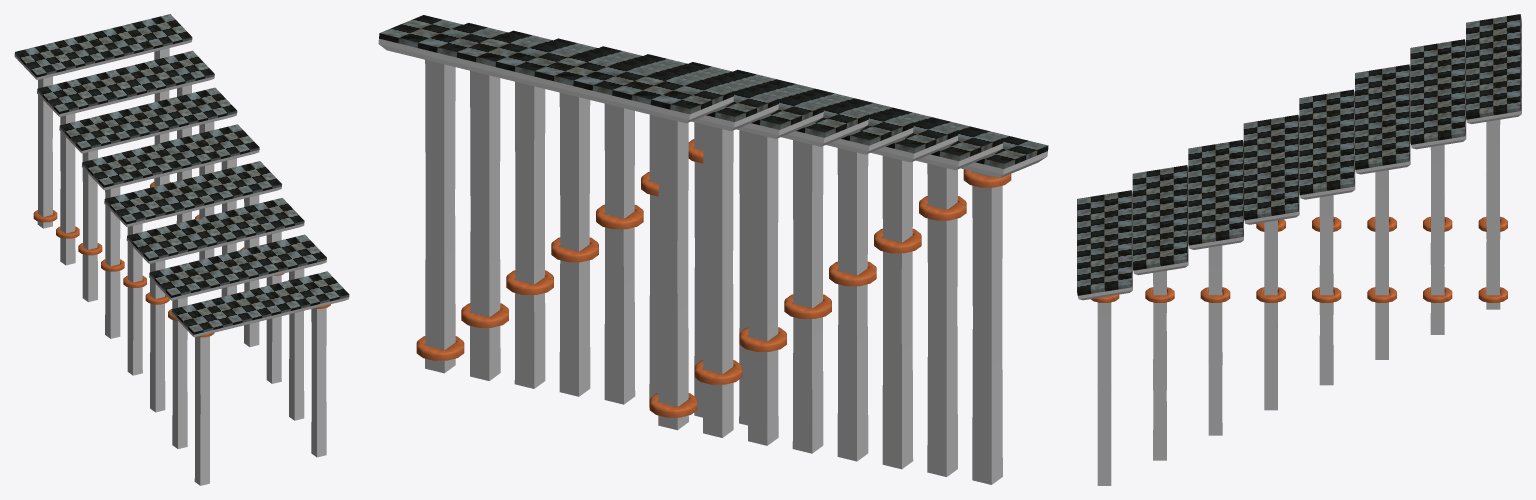
Rendered from StairUpOne.fbx.
3 renders of one model, left to right at view 1: azimuth 30°, elevation 25°; view 2: azimuth 150°, elevation 25°; view 3: azimuth 270°, elevation 25°, orthographic. The views are drawn at different scales.
Visible parts, largest first — view 1: StairUpOneProbuilder; view 2: StairUpOneProbuilder; view 3: StairUpOneProbuilder.
Boxes of the visible parts, left/top/right/bottom form: StairUpOneProbuilder: left=14, top=14, right=349, bottom=485; StairUpOneProbuilder: left=378, top=15, right=1048, bottom=484; StairUpOneProbuilder: left=1077, top=14, right=1521, bottom=485.
Size of the model in its own units: 400 by 769 by 801.
